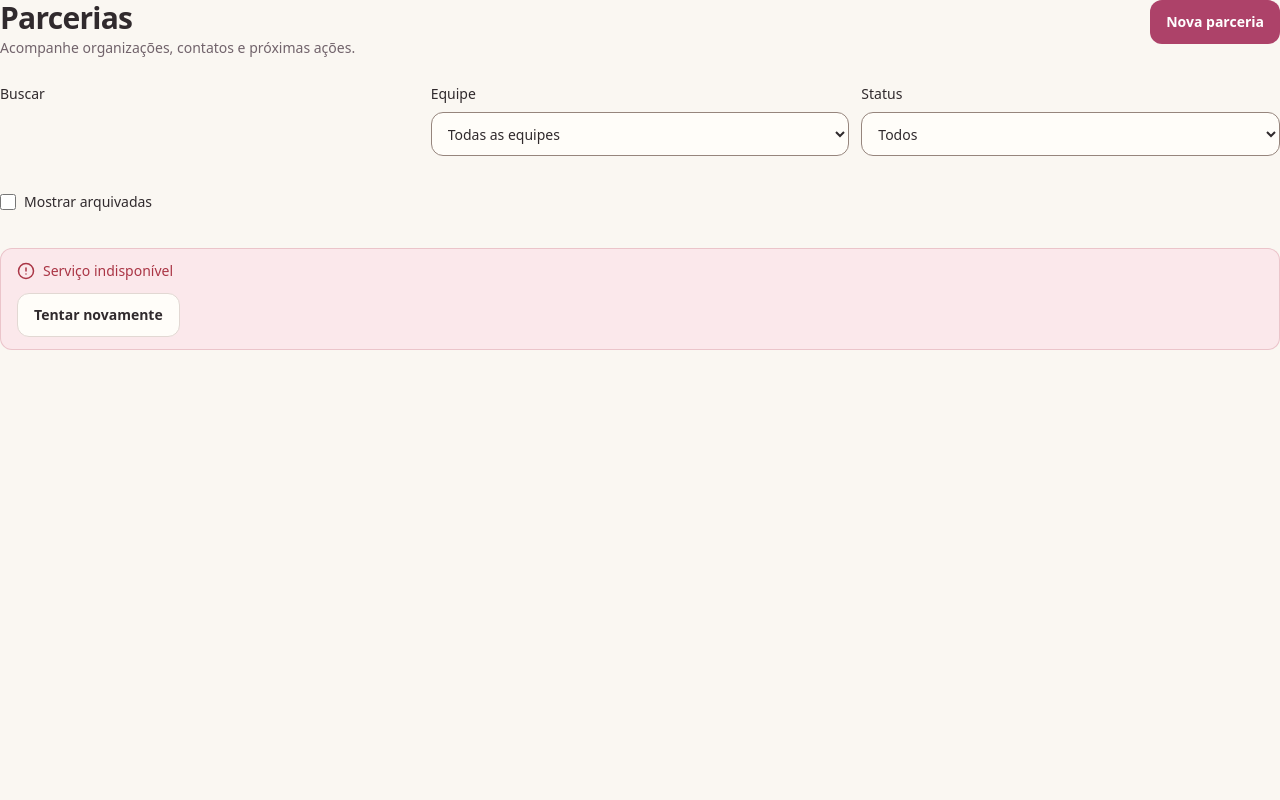
Test: lista abre recurso e apresenta erro com retry
Expected: the text "Serviço indisponível" is shown, 17,261 -> 173,280
Click the button "Tentar novamente" at {"x": 98, "y": 315}, box 17,293 -> 180,337
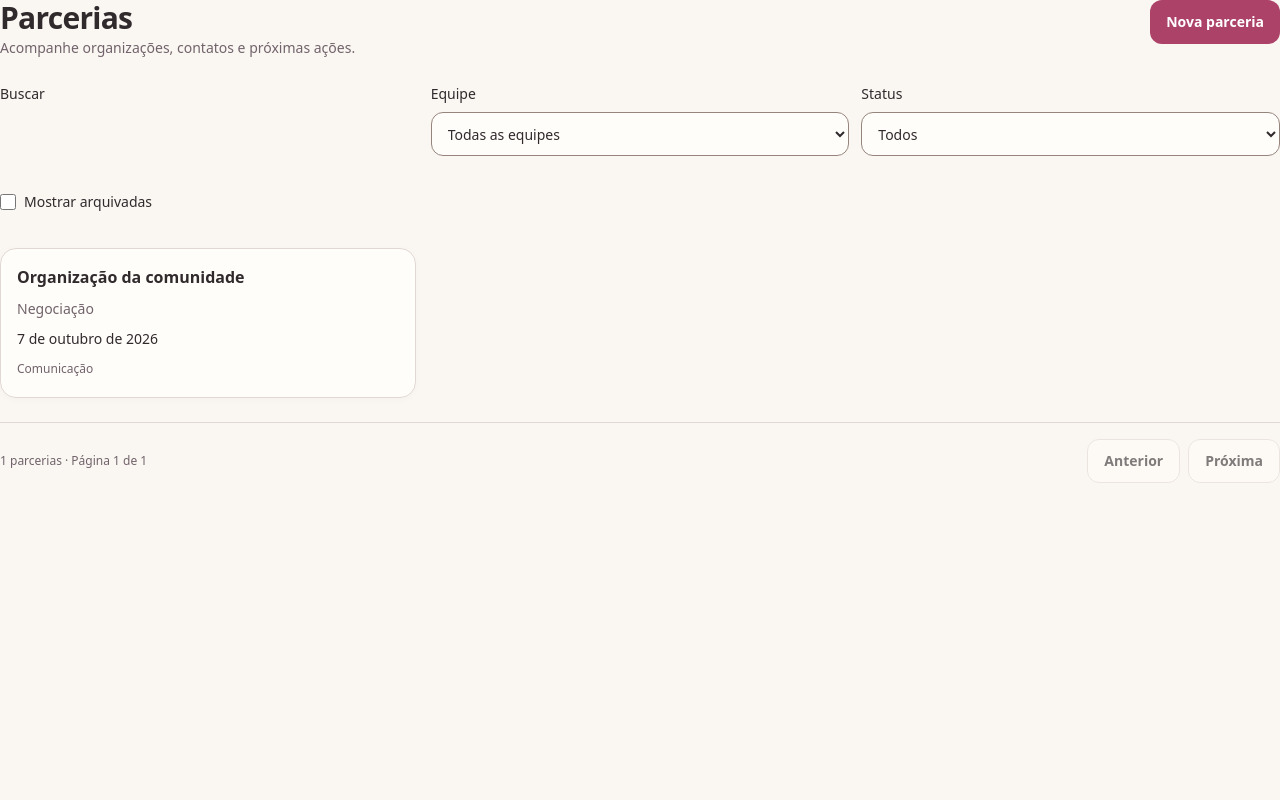
Click the button with aria-label "Abrir parceria Organização da comunidade" at {"x": 131, "y": 277}, box 0,248 -> 416,398
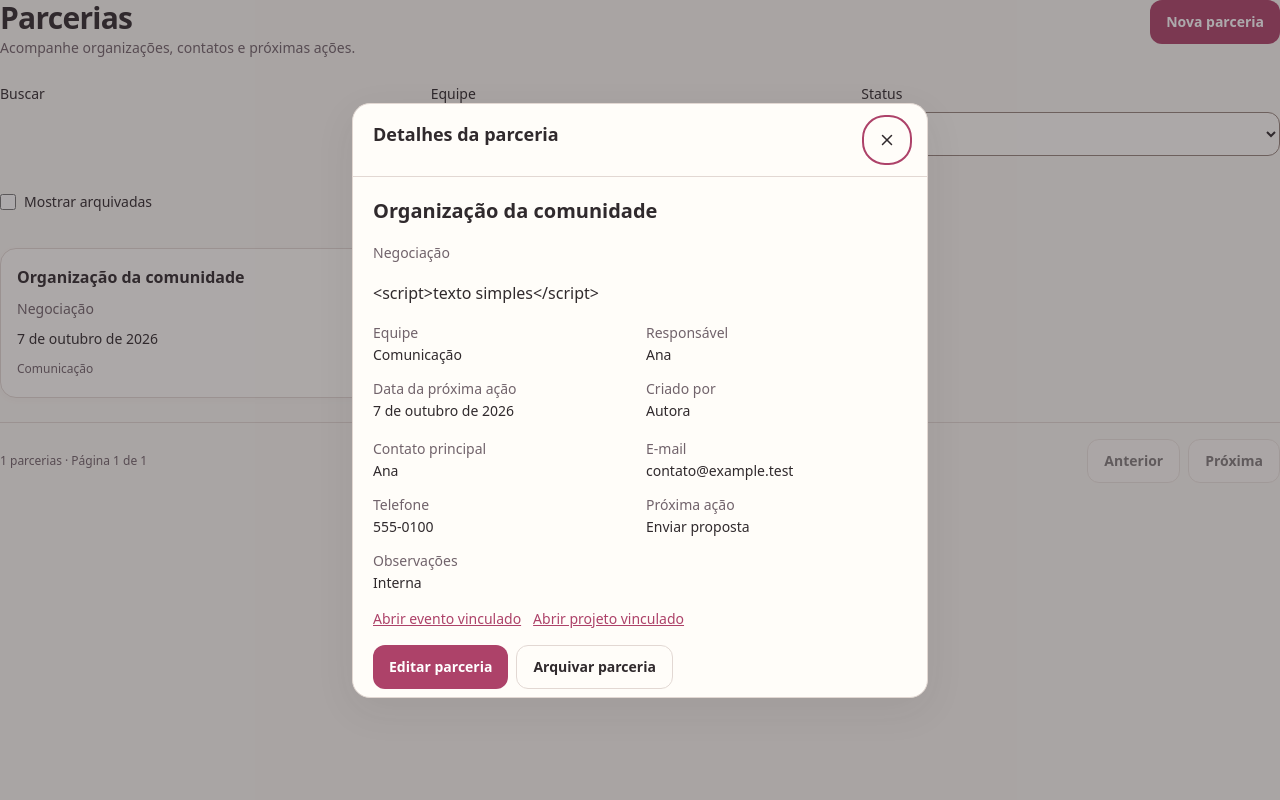
Result: the heading "Detalhes da parceria" is shown at 373,120 -> 559,148
